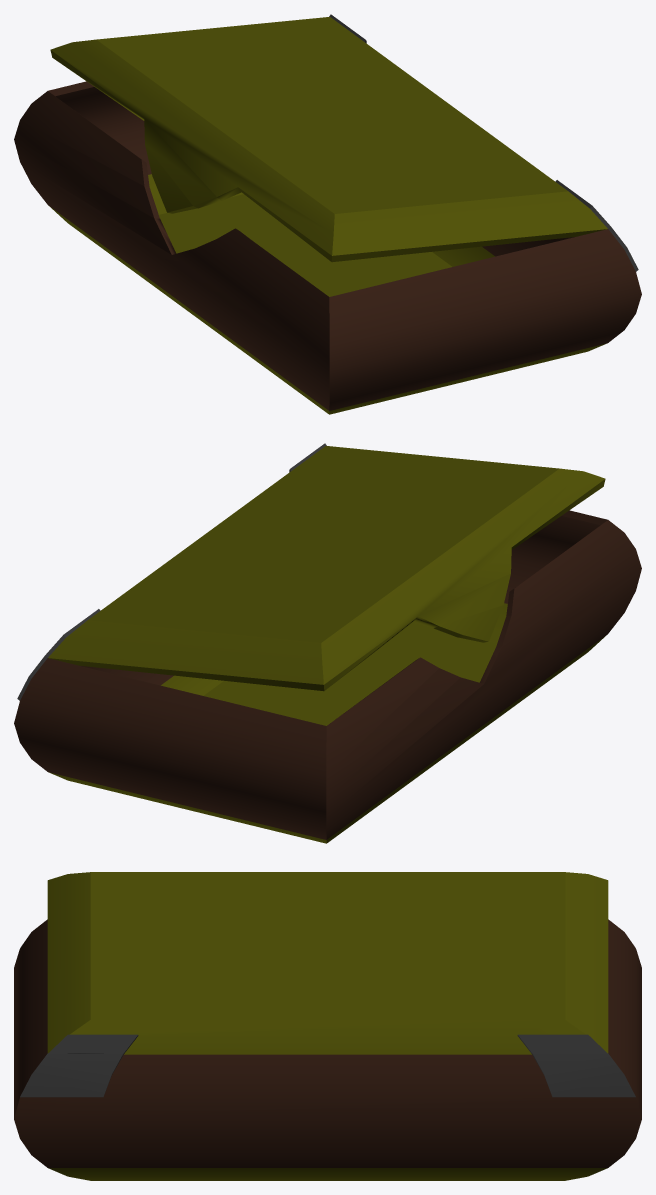
3 views of the same model, one above another, from view 1: azimuth 30°, elevation 25°; view 2: azimuth 150°, elevation 25°; view 3: azimuth 270°, elevation 25° (orthographic).
Visible parts, largest first — view 1: Box001; view 2: Box001; view 3: Box001.
Part boxes in pixels (left/top/right/bottom): Box001: left=14, top=14, right=641, bottom=414; Box001: left=14, top=443, right=641, bottom=843; Box001: left=14, top=872, right=641, bottom=1180.
Bounding box in the file's own units: 53.75 × 32.06 × 92.66.
